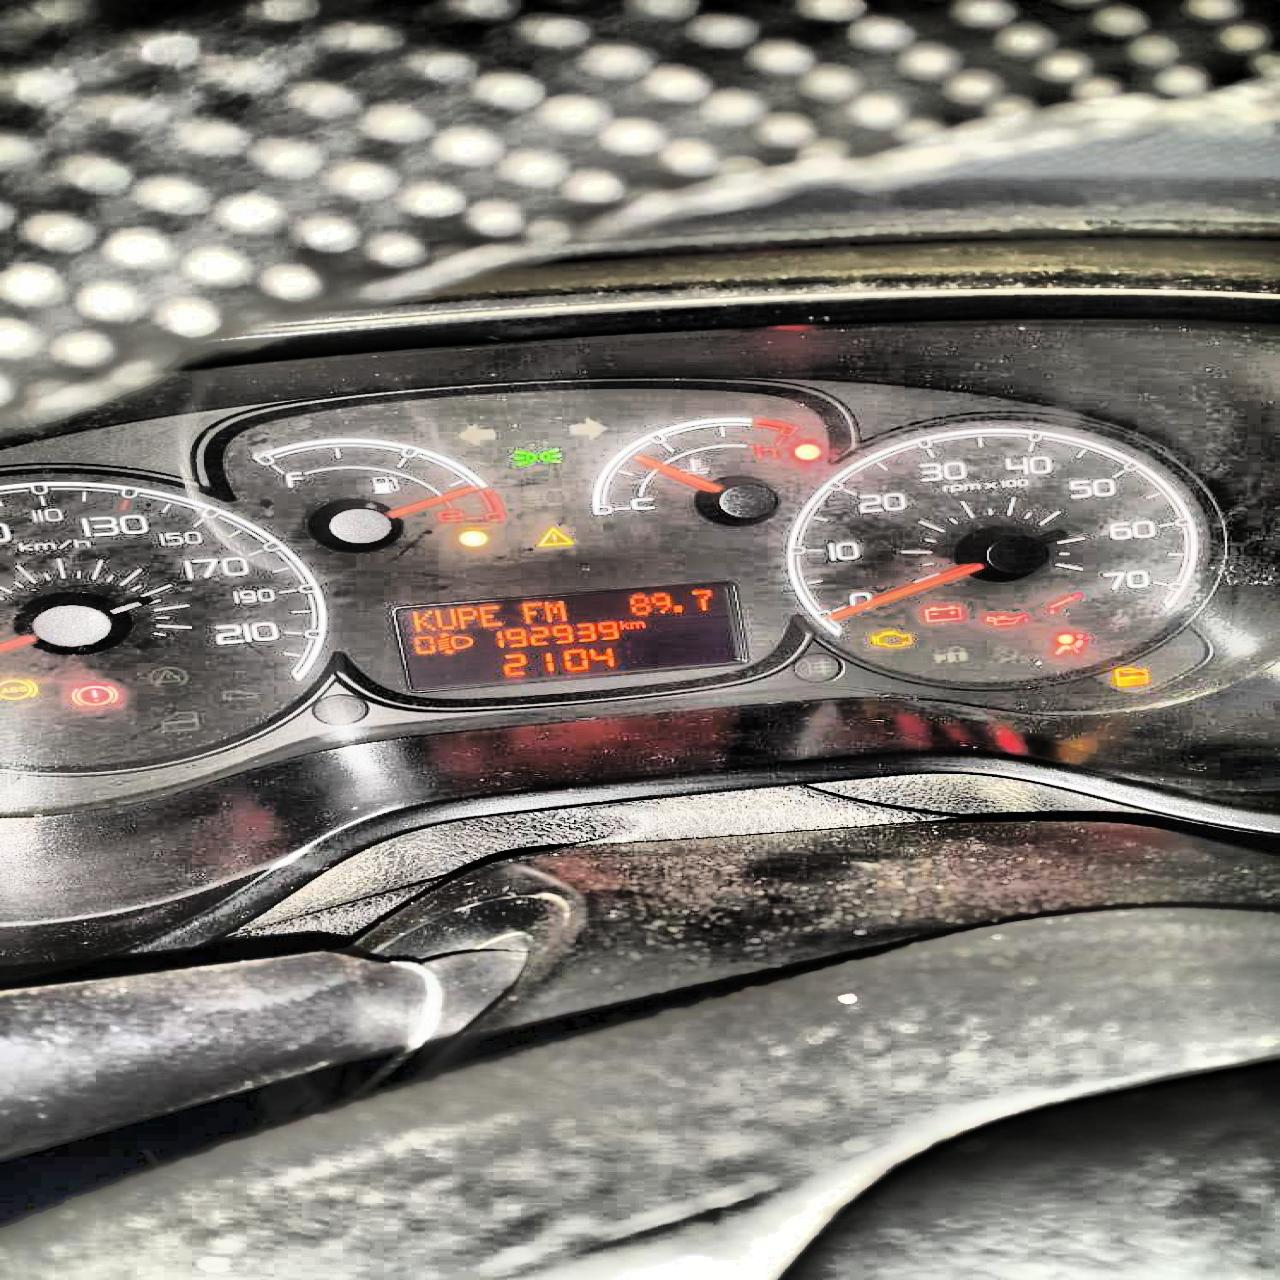-: (669, 602, 686, 614)
0: (560, 648, 587, 670), (410, 634, 435, 654)
1: (542, 651, 556, 672), (493, 629, 504, 648)
2: (501, 652, 530, 678), (527, 626, 550, 646)
3: (573, 622, 597, 642)
4: (587, 647, 613, 666)
7: (687, 587, 715, 611)
8: (627, 593, 651, 617)
9: (505, 626, 527, 647), (550, 622, 572, 644), (649, 592, 669, 614), (597, 619, 617, 641)
X: (542, 599, 567, 622), (478, 605, 504, 626), (408, 610, 434, 631), (434, 607, 456, 631), (519, 599, 542, 621), (456, 606, 476, 628), (618, 619, 628, 629), (628, 621, 645, 627)
odometer: (389, 583, 750, 690)
